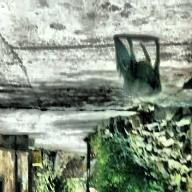boar: (115, 39, 173, 106)
